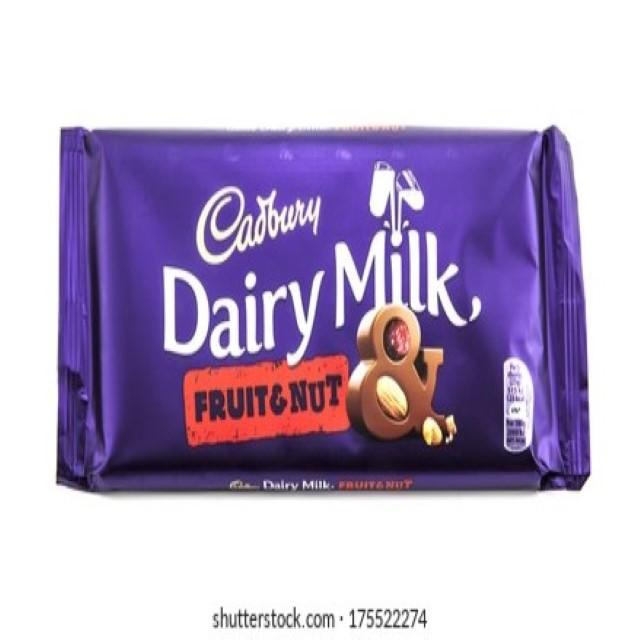cadbury_chocolate: (60, 130, 557, 473)
